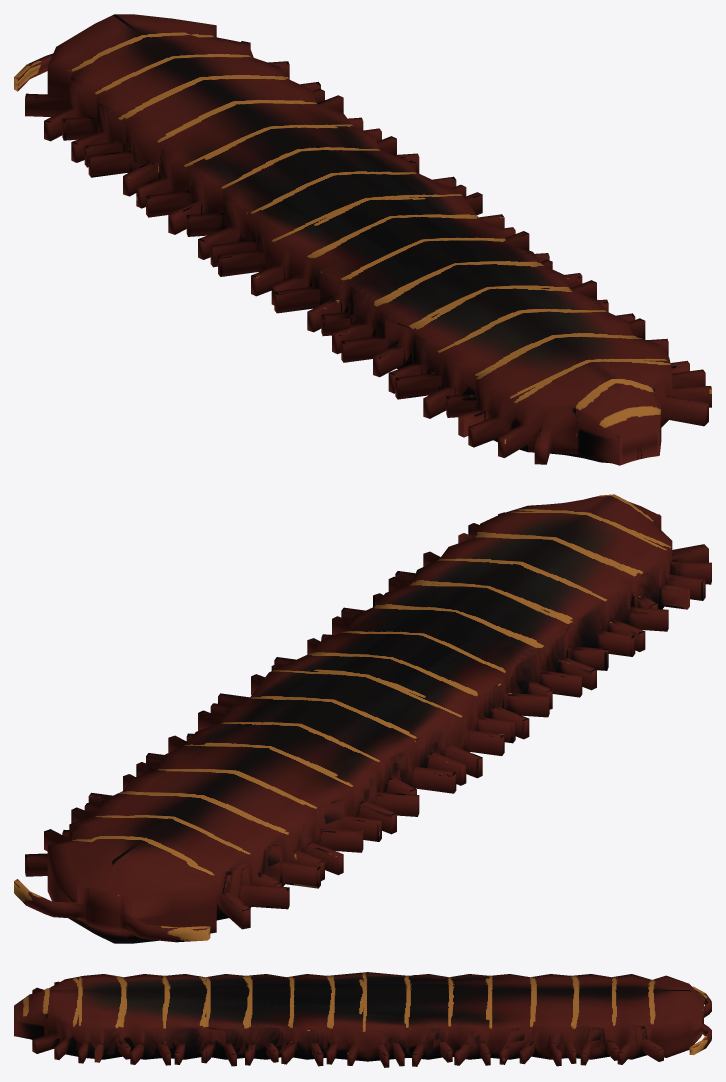
File: milipede.fbx
3 views of the same model, one above another, from view 1: azimuth 30°, elevation 25°; view 2: azimuth 150°, elevation 25°; view 3: azimuth 270°, elevation 25° (orthographic). The views are drawn at different scales.
Parts seen in each view (by area): view 1: Cube; view 2: Cube; view 3: Cube.
Part boxes in pixels (x1,y1,x2,y2): Cube: (14, 14, 711, 465); Cube: (14, 494, 711, 943); Cube: (14, 972, 711, 1067).
Bounding box in the file's own units: 294 × 88.58 × 1053.
